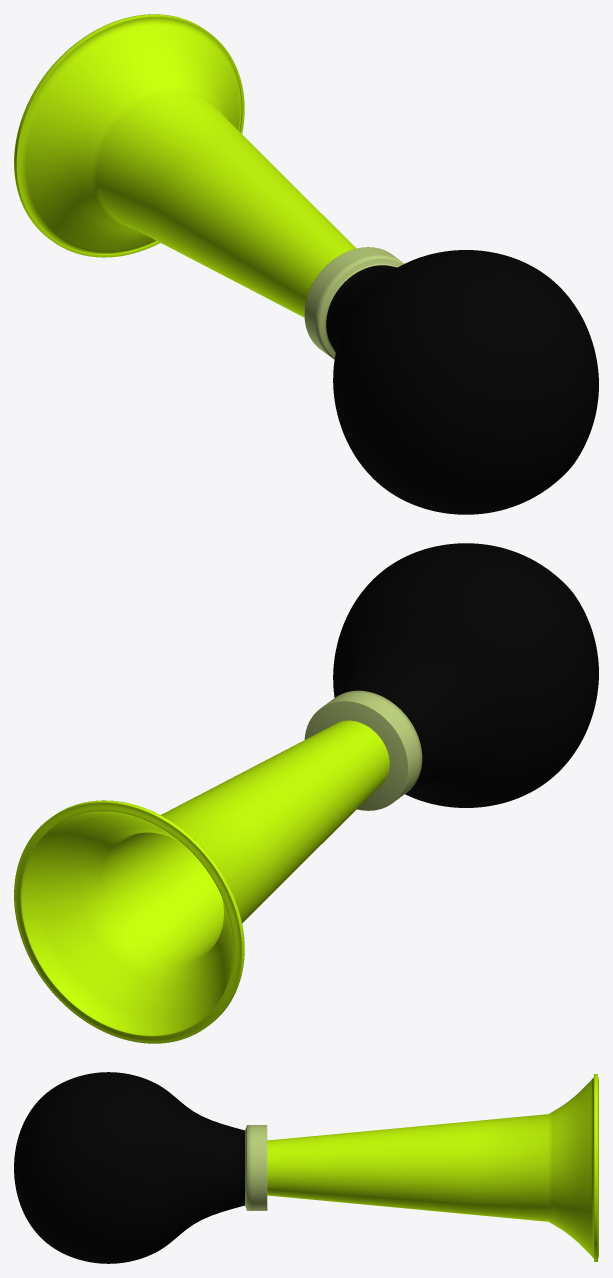
Rendered from ClownHorn.fbx.
The picture shows the model from 3 angles, top to bottom: view 1: azimuth 30°, elevation 25°; view 2: azimuth 150°, elevation 25°; view 3: azimuth 270°, elevation 25°; orthographic projection. The views are drawn at different scales.
Parts seen in each view (by area): view 1: Cube, Cylinder.001; view 2: Cylinder.001, Cube; view 3: Cube, Cylinder.001.
Part boxes in pixels (left/top/right/bottom): Cube: left=304, top=247, right=598, bottom=514; Cylinder.001: left=14, top=14, right=356, bottom=317; Cylinder.001: left=14, top=720, right=389, bottom=1043; Cube: left=304, top=543, right=598, bottom=810; Cube: left=14, top=1072, right=267, bottom=1263; Cylinder.001: left=267, top=1074, right=598, bottom=1261.
Size of the model in its own units: 168 by 166 by 514.
